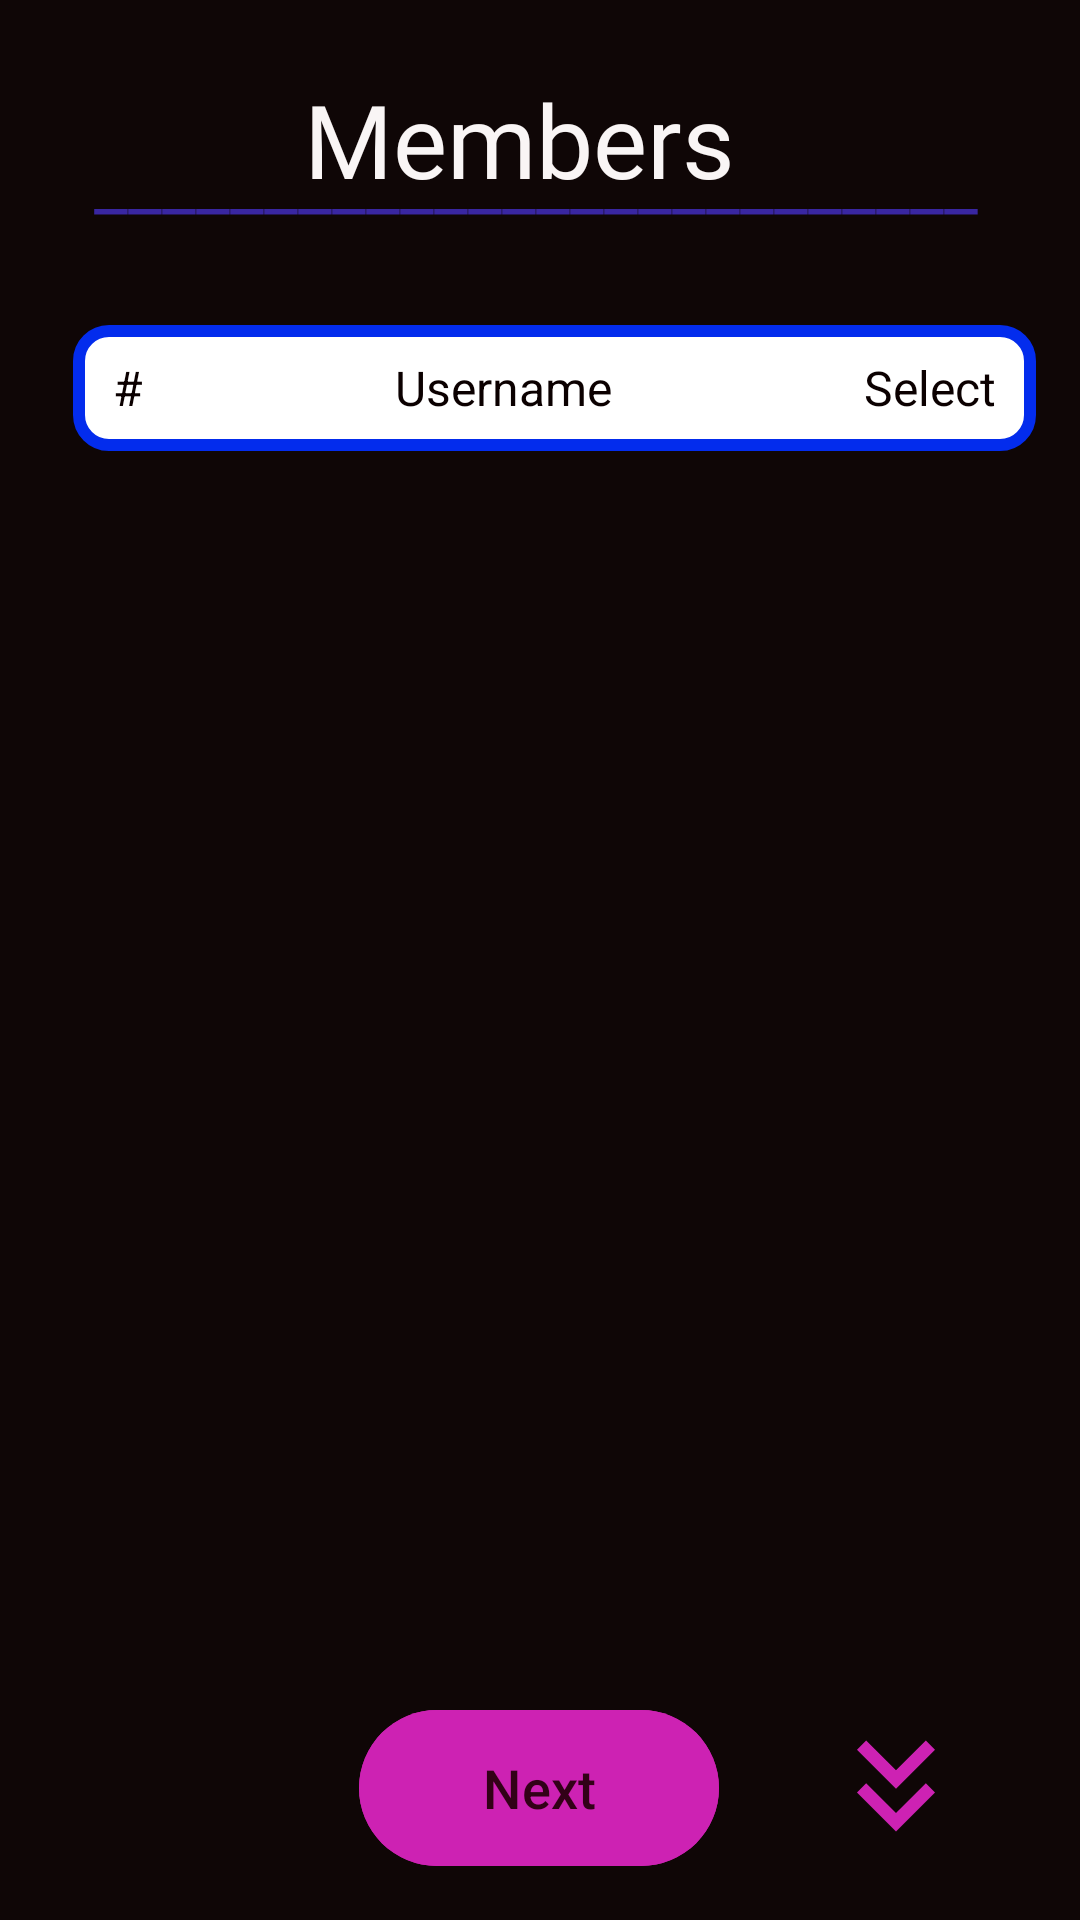

Icon bounding boxes for this 1080px x 1920px phone screenshot, format {"x1": x1, "y1": y1, "x2": x2, "y2": y2}:
keyboard double arrow down: {"x1": 857, "y1": 1740, "x2": 935, "y2": 1832}
